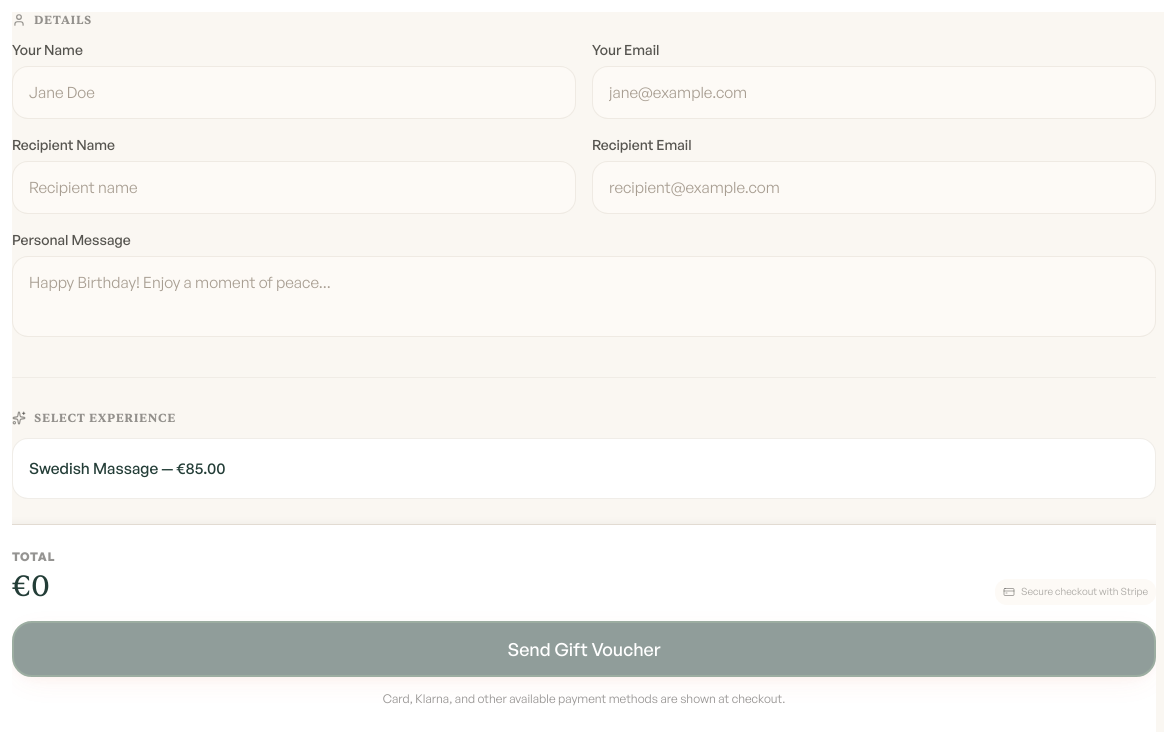
Test: GiftForm › updates displayed amount when a service is selected
Select "Swedish Massage — €85.00" in the dropdown at (584, 468), box [12, 438, 1156, 499]
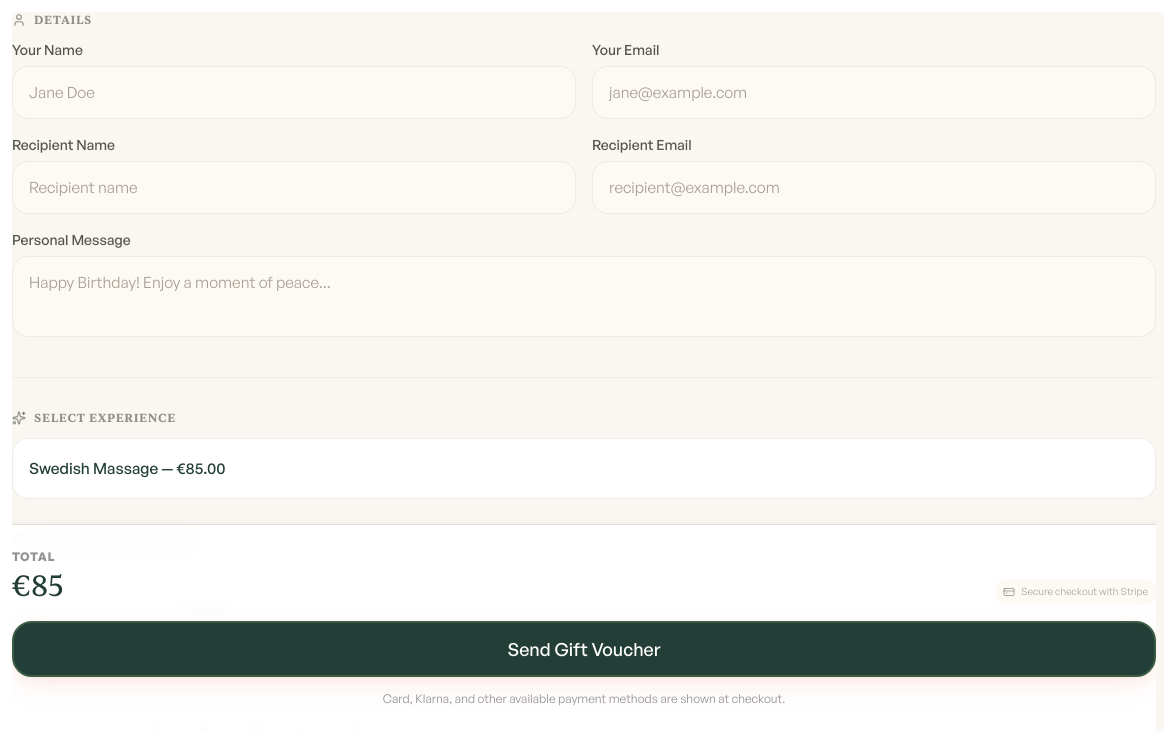
Check: the text "€85" is shown, box [12, 568, 64, 604]
